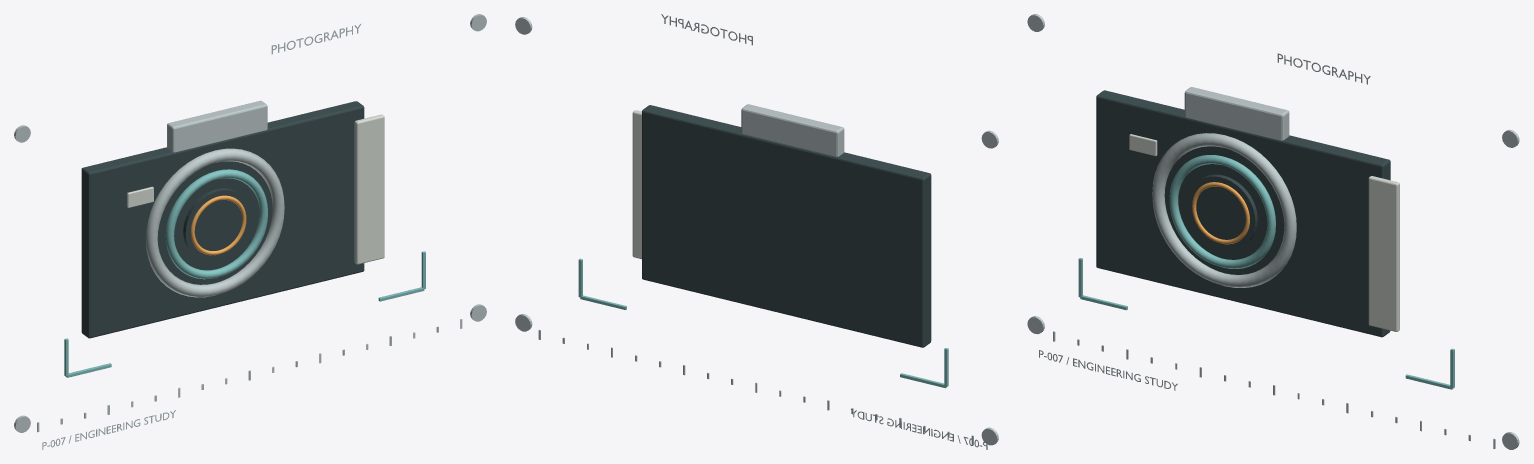
Rendered from photography.glb.
3 renders of one model, left to right at view 1: azimuth 30°, elevation 25°; view 2: azimuth 150°, elevation 25°; view 3: azimuth 330°, elevation 25°, orthographic. The views are drawn at different scales.
Visible parts, largest first — view 1: optical-core__Project_Graphite.006, optical-lenses__Project_Silver.006, optical-core__Project_Ceramic.006, optical-lenses__Project_Trace.005, optical-core__Project_Silver.005, optical-lenses__Project_Amber.004; view 2: optical-core__Project_Graphite.006, optical-core__Project_Silver.005, optical-lenses__Project_Silver.006, optical-core__Project_Ceramic.006, optical-lenses__Project_Trace.005; view 3: optical-core__Project_Graphite.006, optical-lenses__Project_Silver.006, optical-core__Project_Ceramic.006, optical-lenses__Project_Trace.005, optical-core__Project_Silver.005, optical-lenses__Project_Amber.004.
Boxes of the visible parts, x1,y1,x2,y2 form: optical-core__Project_Graphite.006: (81,101,364,338); optical-lenses__Project_Silver.006: (14,14,486,449); optical-core__Project_Ceramic.006: (127,114,384,264); optical-lenses__Project_Trace.005: (64,169,425,377); optical-core__Project_Silver.005: (167,100,267,152); optical-lenses__Project_Amber.004: (190,195,246,255); optical-core__Project_Graphite.006: (642,105,931,347); optical-core__Project_Silver.005: (741,104,844,156); optical-lenses__Project_Silver.006: (515,14,998,449); optical-core__Project_Ceramic.006: (632,110,641,259); optical-lenses__Project_Trace.005: (578,258,948,388); optical-core__Project_Graphite.006: (1096,90,1390,337); optical-lenses__Project_Silver.006: (1027,14,1519,449); optical-core__Project_Ceramic.006: (1129,134,1399,331); optical-lenses__Project_Trace.005: (1078,155,1454,389); optical-core__Project_Silver.005: (1184,87,1289,140); optical-lenses__Project_Amber.004: (1192,182,1249,244).
Bounding box in the file's own units: 4.01 × 2.83 × 0.1996.
